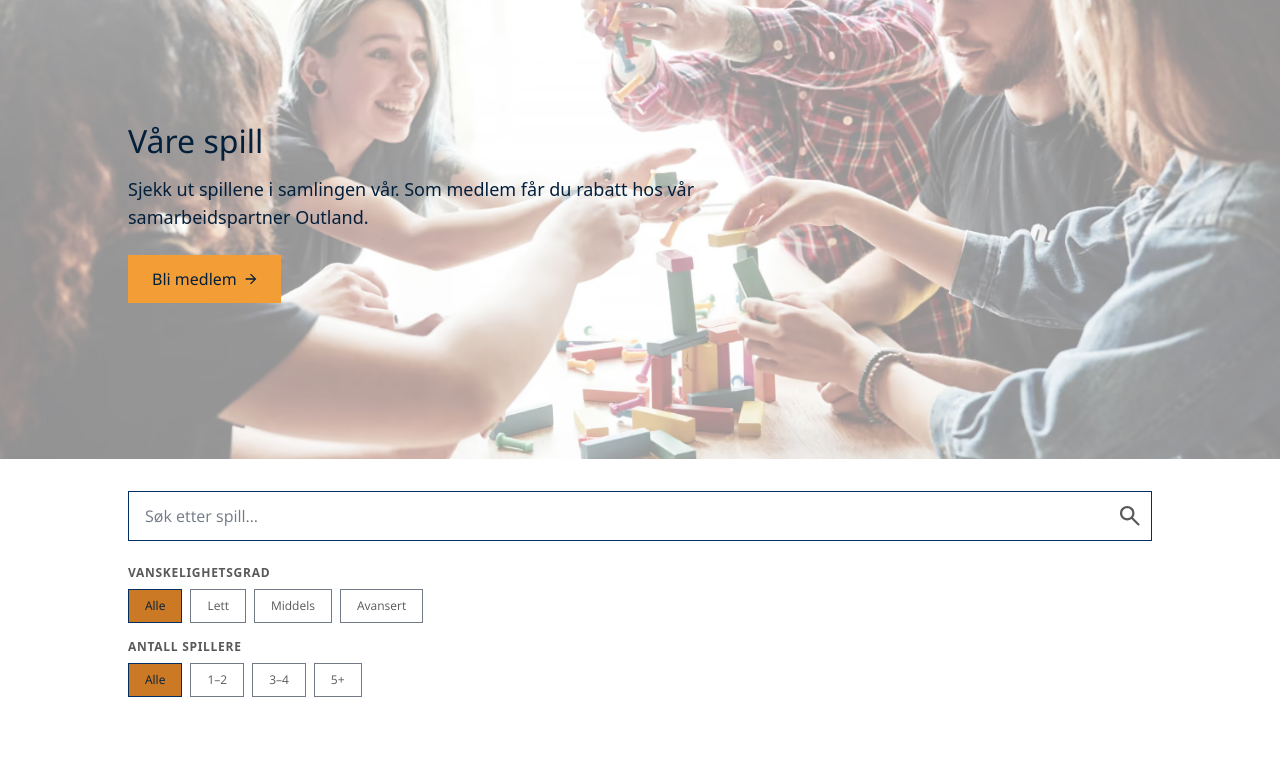
Test: OurGamesSection › shows an empty state with a reset action when nothing matches
In the search field labelled "Søk etter spill": (640, 516) top-left (128, 491), bottom-right (1152, 541), type "finnes ikke"
(page scrolled)
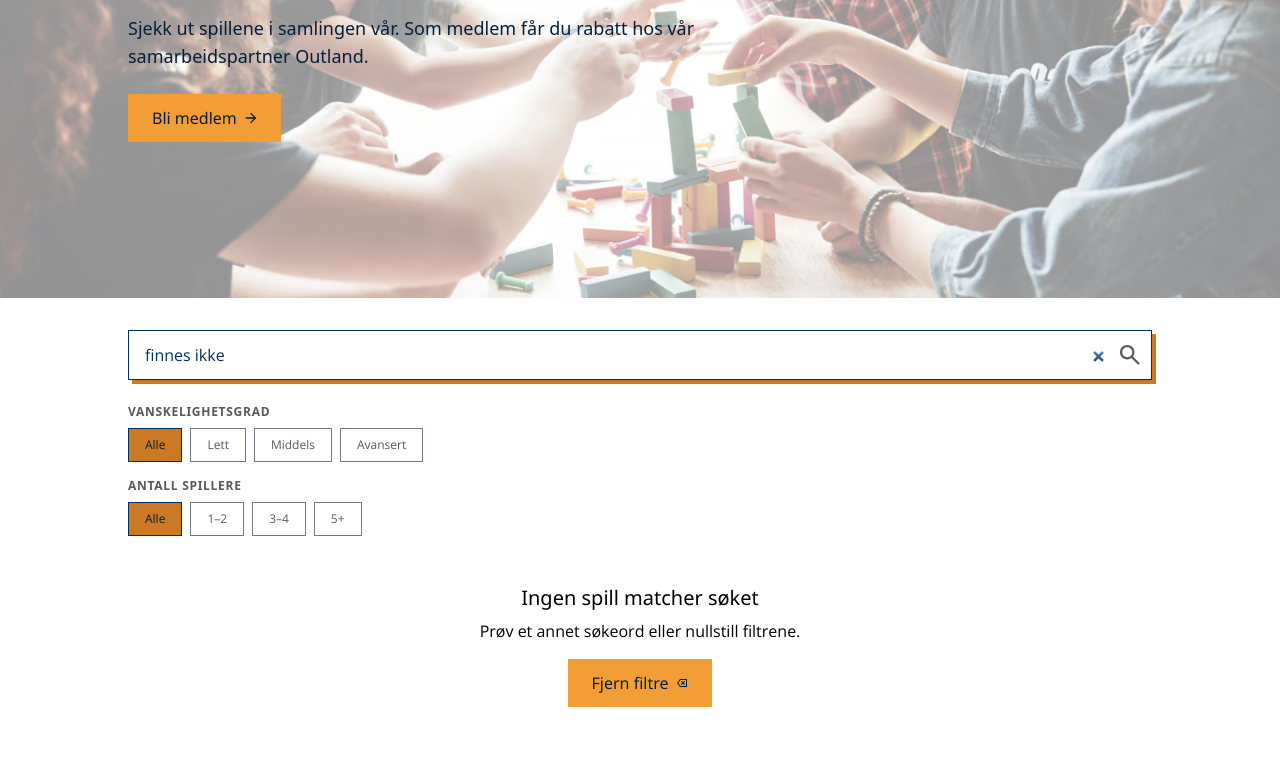
Result: the heading "Ingen spill matcher søket" is shown at top-left (521, 584), bottom-right (759, 611)
Click the button "Fjern filtre": click(640, 683) top-left (568, 659), bottom-right (712, 707)
(page scrolled)
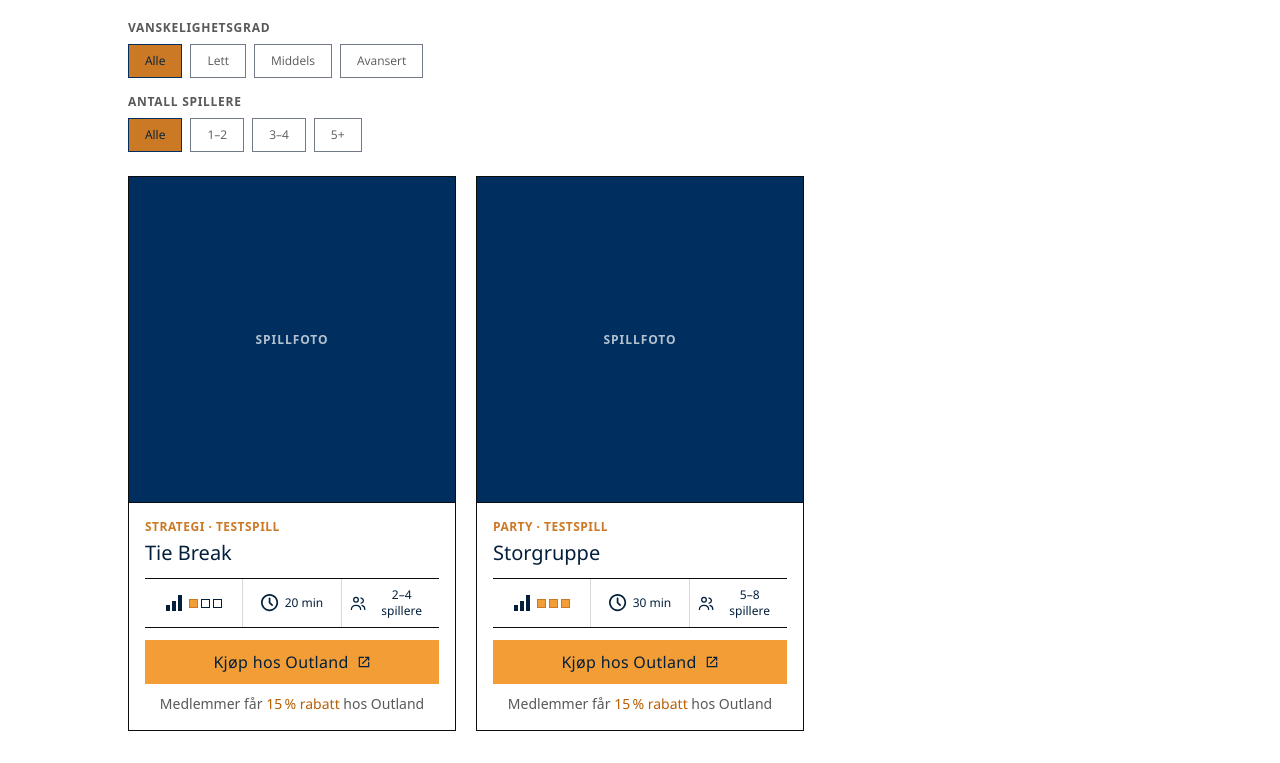
Result: the heading "Tie Break" is shown at top-left (145, 539), bottom-right (232, 566)
Result: the heading "Storgruppe" is shown at top-left (493, 539), bottom-right (600, 566)
